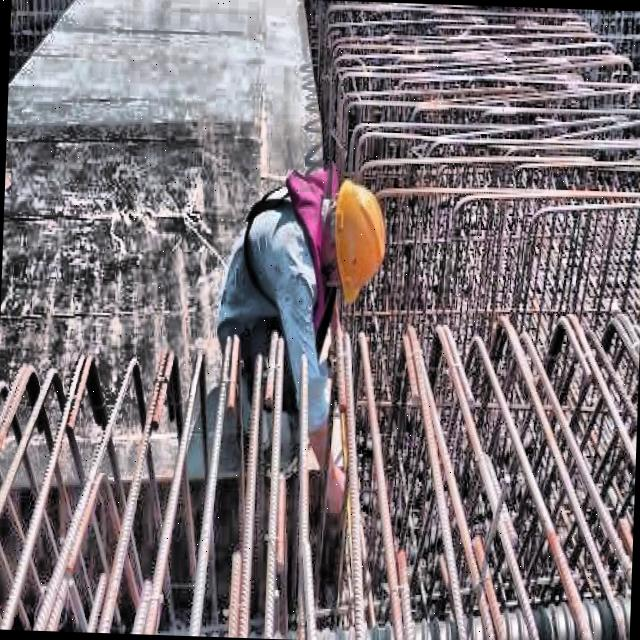helmet: (322, 182, 389, 294)
